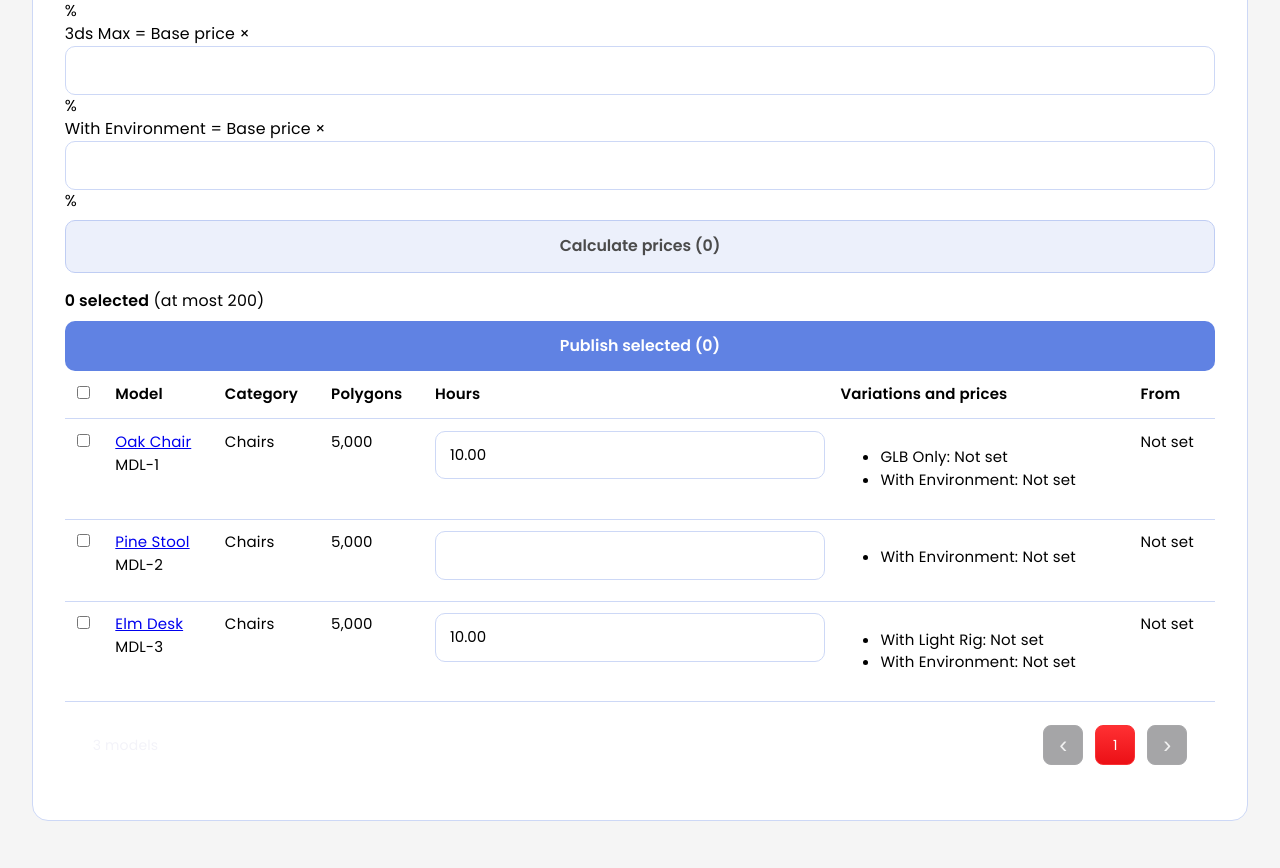
Test: AdminPricingPage › refuses hours that are not a number above 0
(page scrolled)
Type "0" into the field named "Hours for Pine Stool".
click(630, 556); type("0")  # box [435,531,824,580]
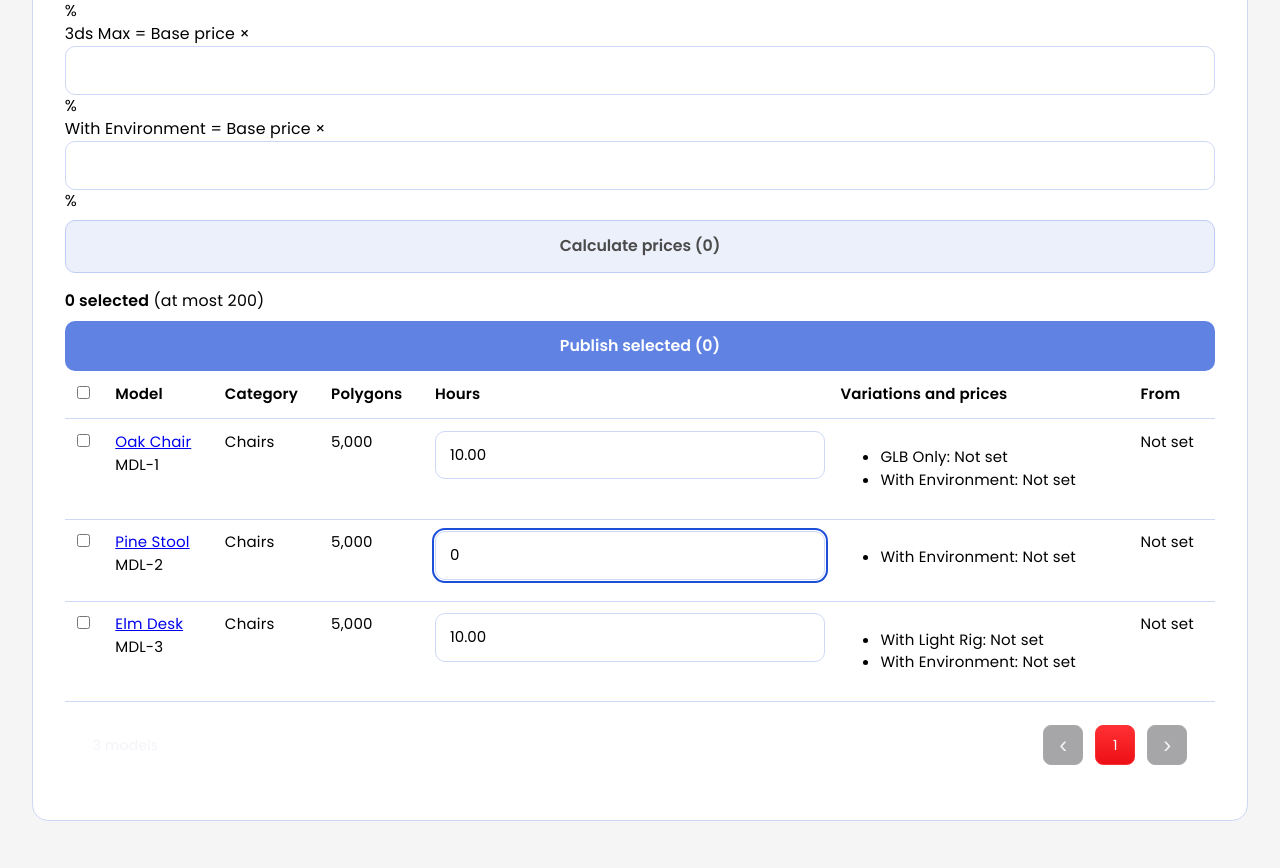
Press Tab
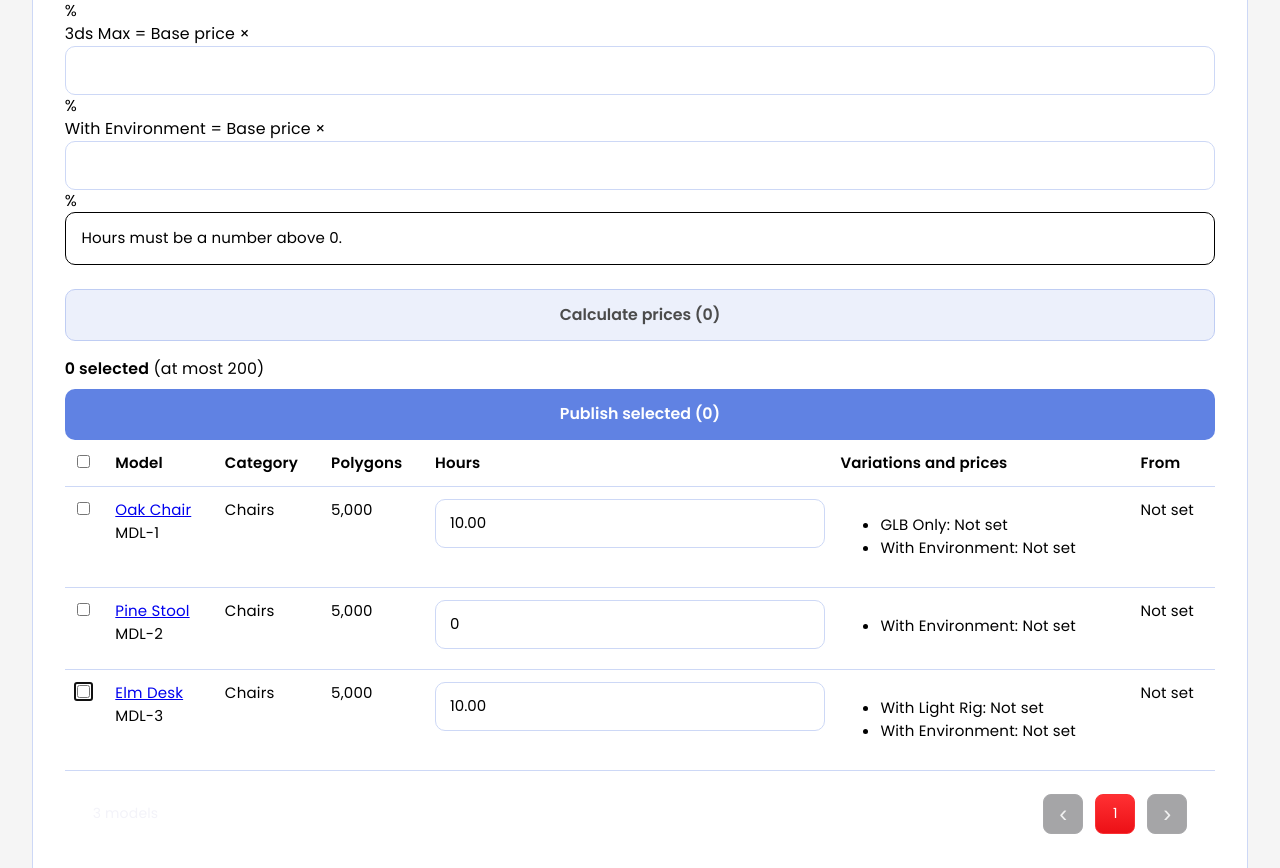
Expected: the text "Hours must be a number above 0." is shown, [65,212,1215,265]
